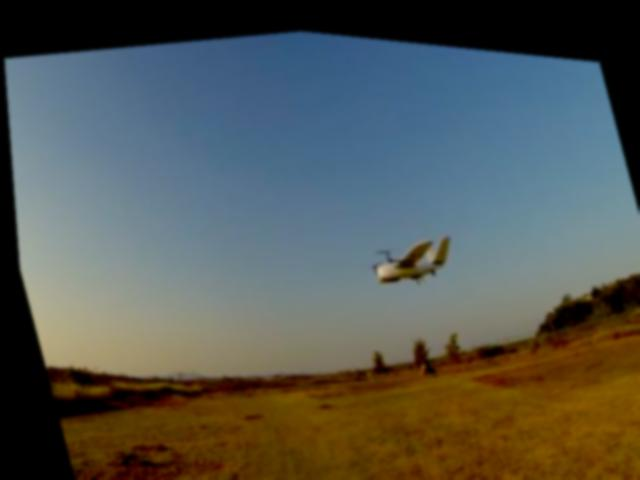uav: (347, 205, 468, 297)
